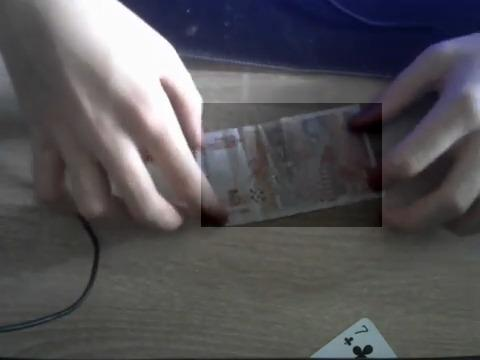5leva: (201, 103, 382, 227)
